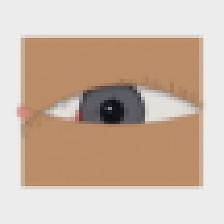hemorrhage_spot: (62, 101, 128, 154)
